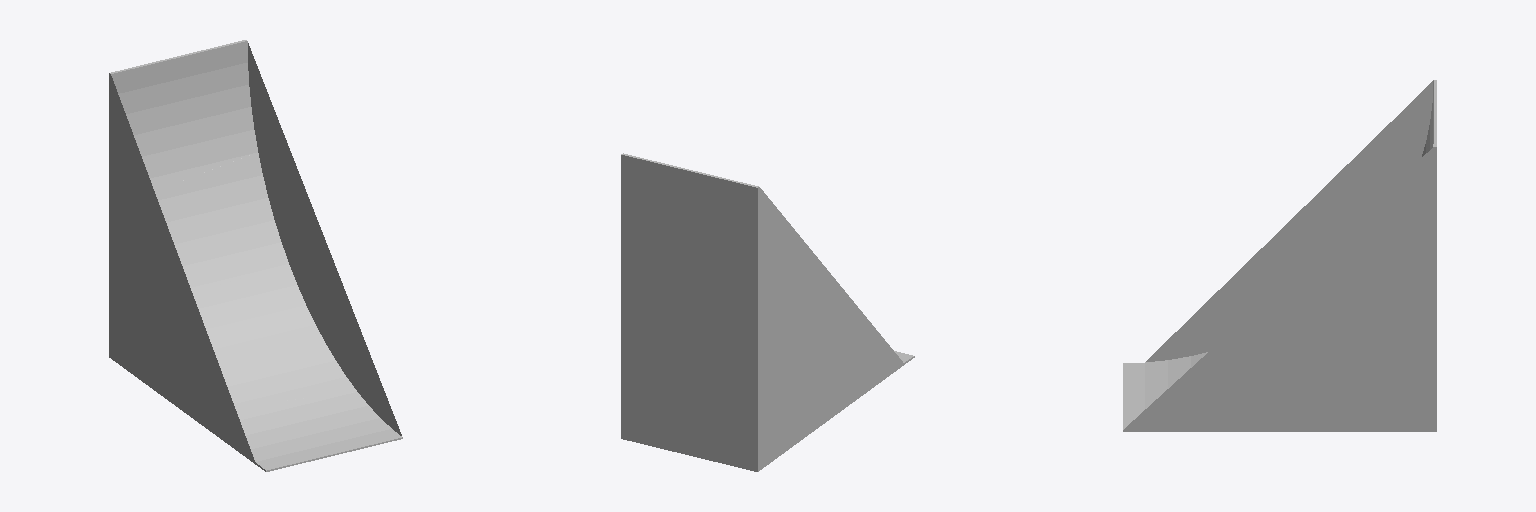
Rendered from Rampa_C2.obj.
The picture shows the model from 3 angles: view 1: azimuth 30°, elevation 25°; view 2: azimuth 150°, elevation 25°; view 3: azimuth 270°, elevation 25°; orthographic projection.
Parts seen in each view (by area): view 1: Rampa_C2_Cube.017; view 2: Rampa_C2_Cube.017; view 3: Rampa_C2_Cube.017.
Boxes of the visible parts, x1,y1,x2,y2 form: Rampa_C2_Cube.017: [109, 40, 402, 471]; Rampa_C2_Cube.017: [621, 153, 914, 471]; Rampa_C2_Cube.017: [1123, 80, 1436, 431].
Bounding box in the file's own units: 2.01 × 4 × 4.